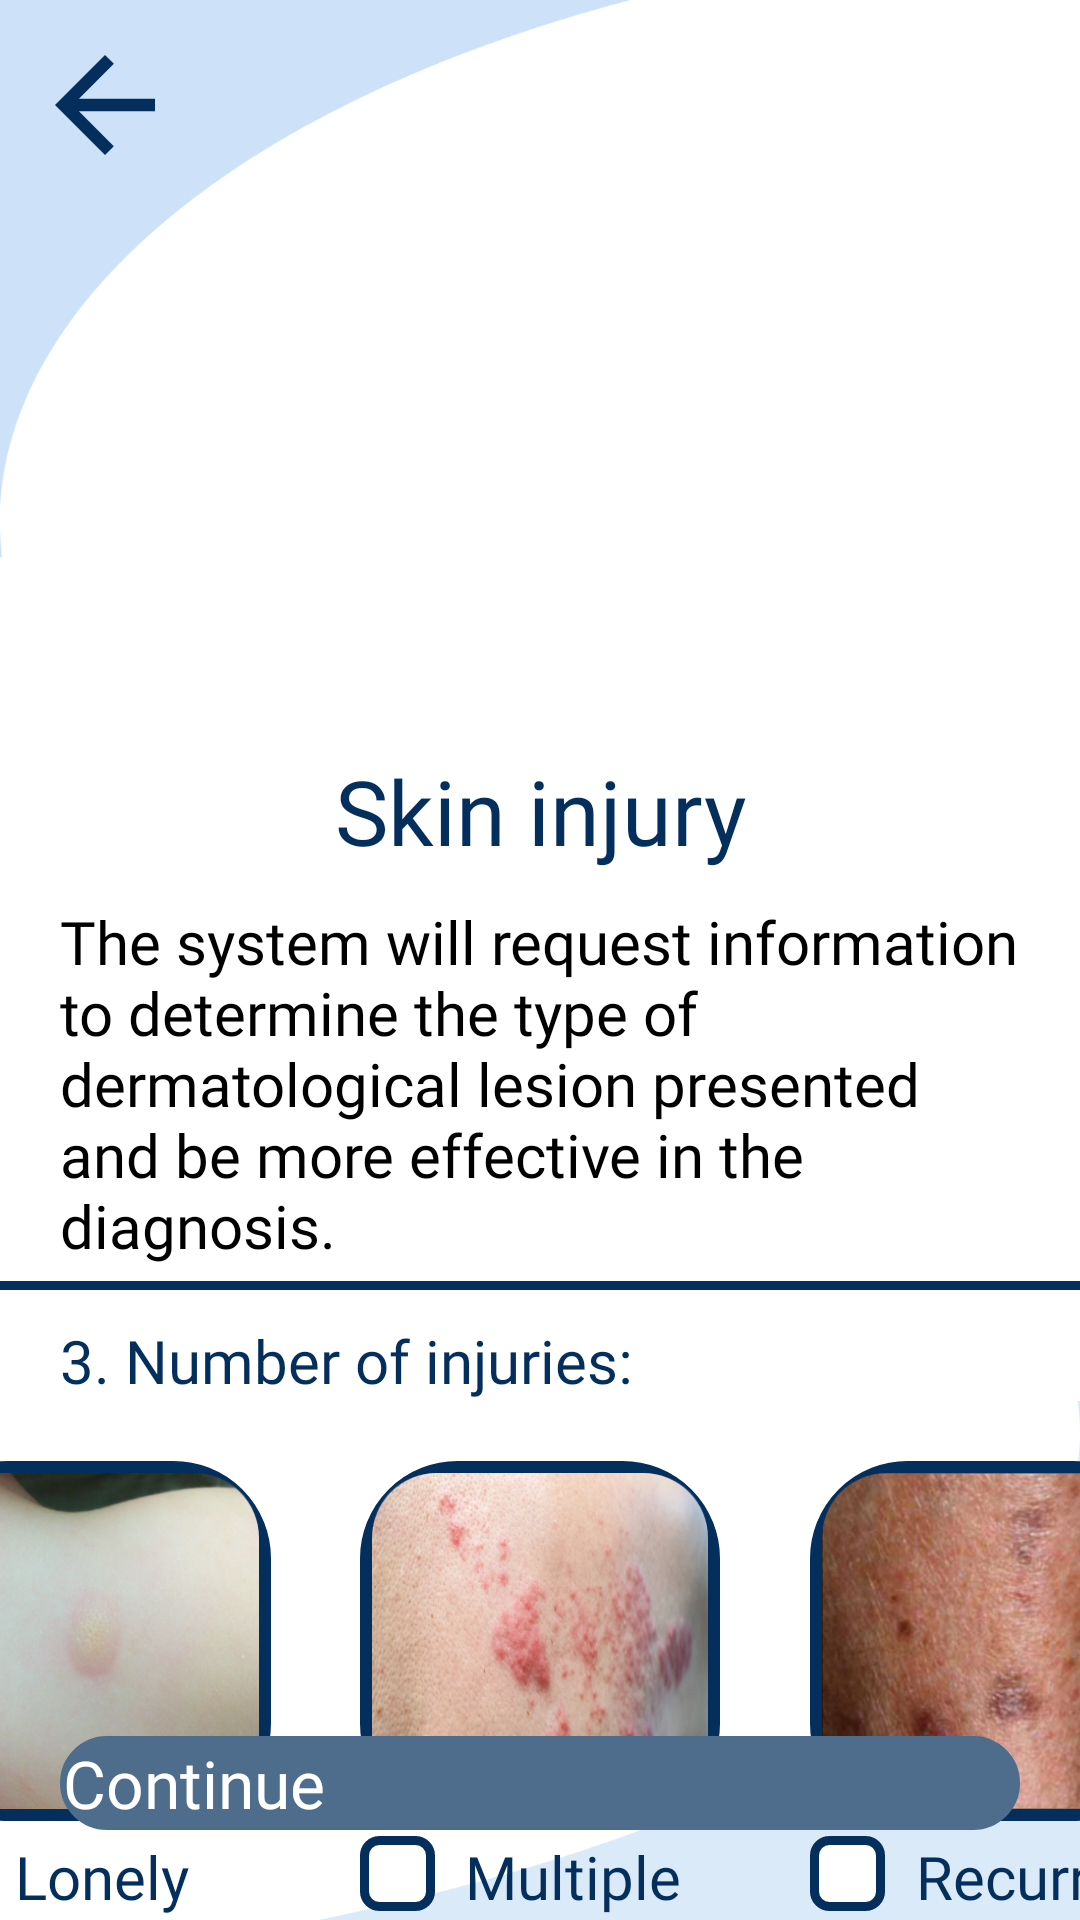

Icons on this 1080 x 1920 Android screen, each with the point to tap as (x=x, y=y):
back arrow: (x=105, y=105)
checkbox: (x=397, y=1873), (x=847, y=1873)
